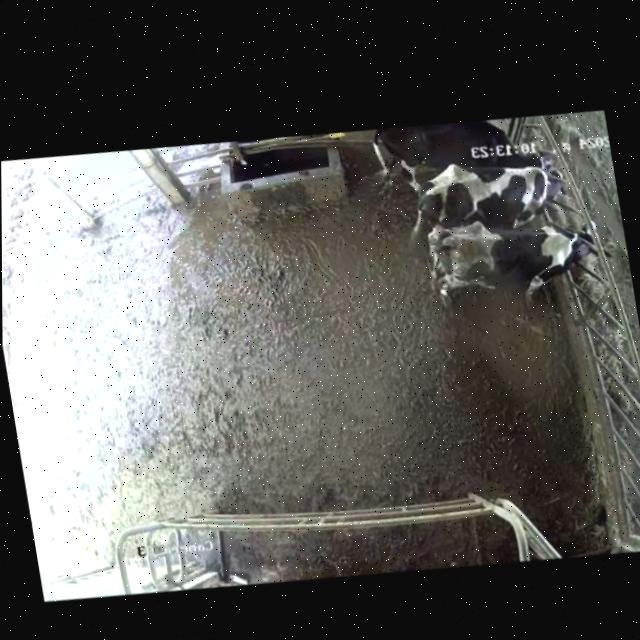eat: (469, 108, 592, 185), (497, 153, 606, 231), (530, 208, 631, 288)
